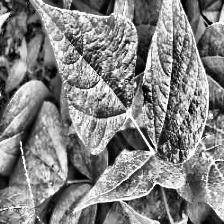Bean Rust: (28, 0, 143, 149), (141, 0, 208, 162), (78, 152, 188, 212), (188, 94, 224, 224), (120, 199, 214, 224)
